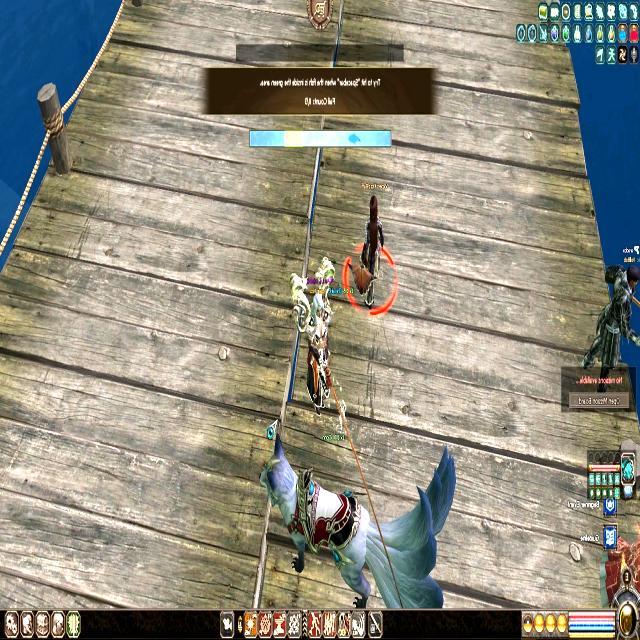fishes: (348, 131, 360, 145)
